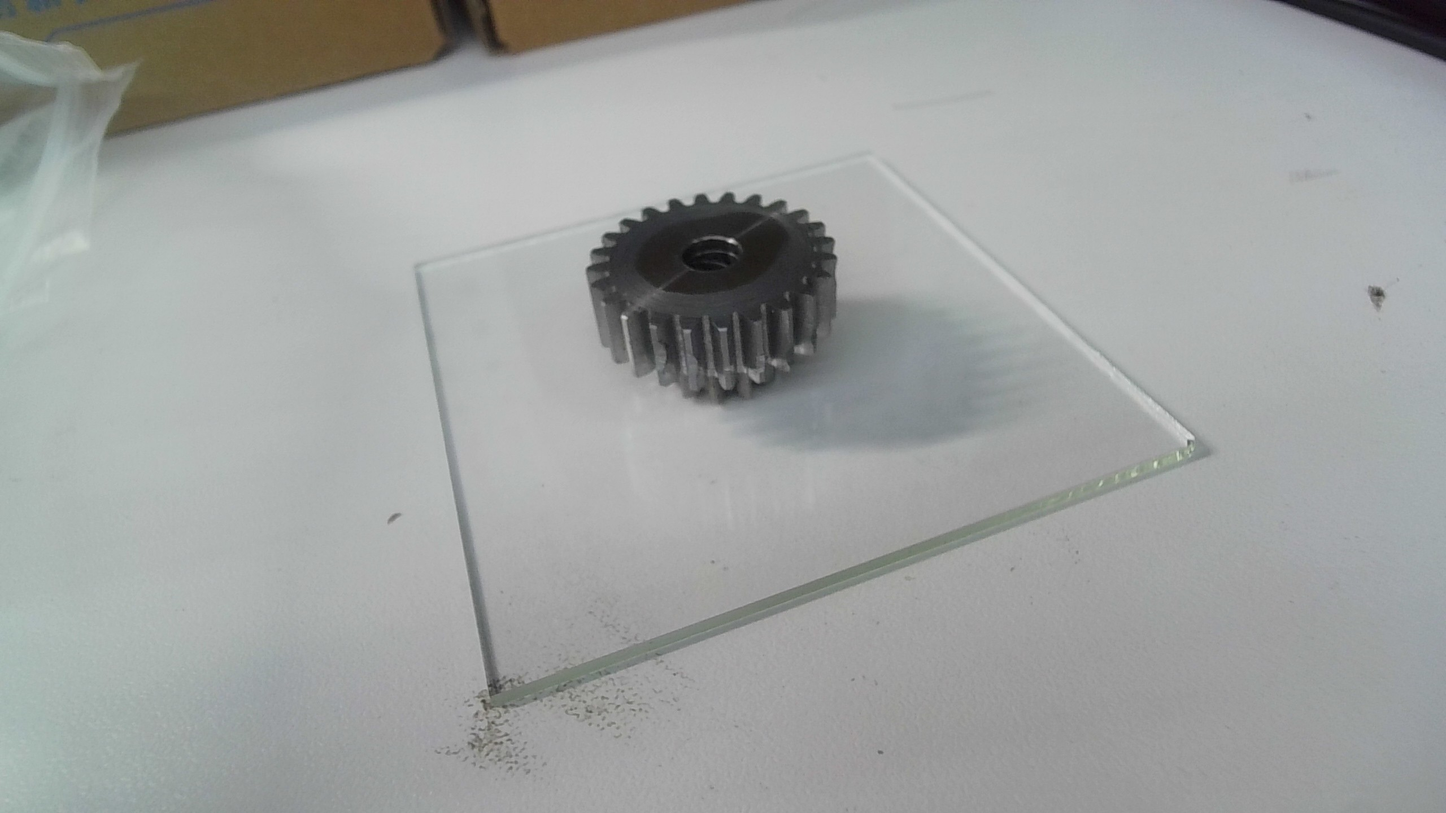gear: (583, 189, 842, 410)
